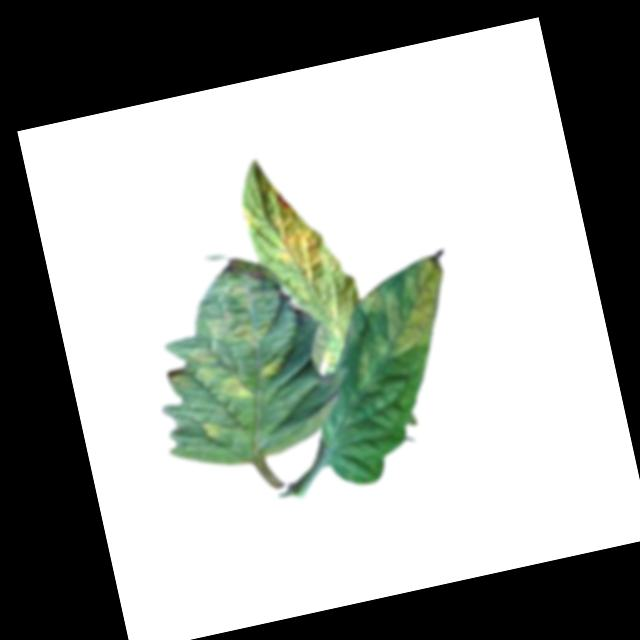Leaf_Mold: (170, 259, 294, 410), (333, 252, 462, 389), (263, 178, 347, 301), (197, 416, 227, 445)
